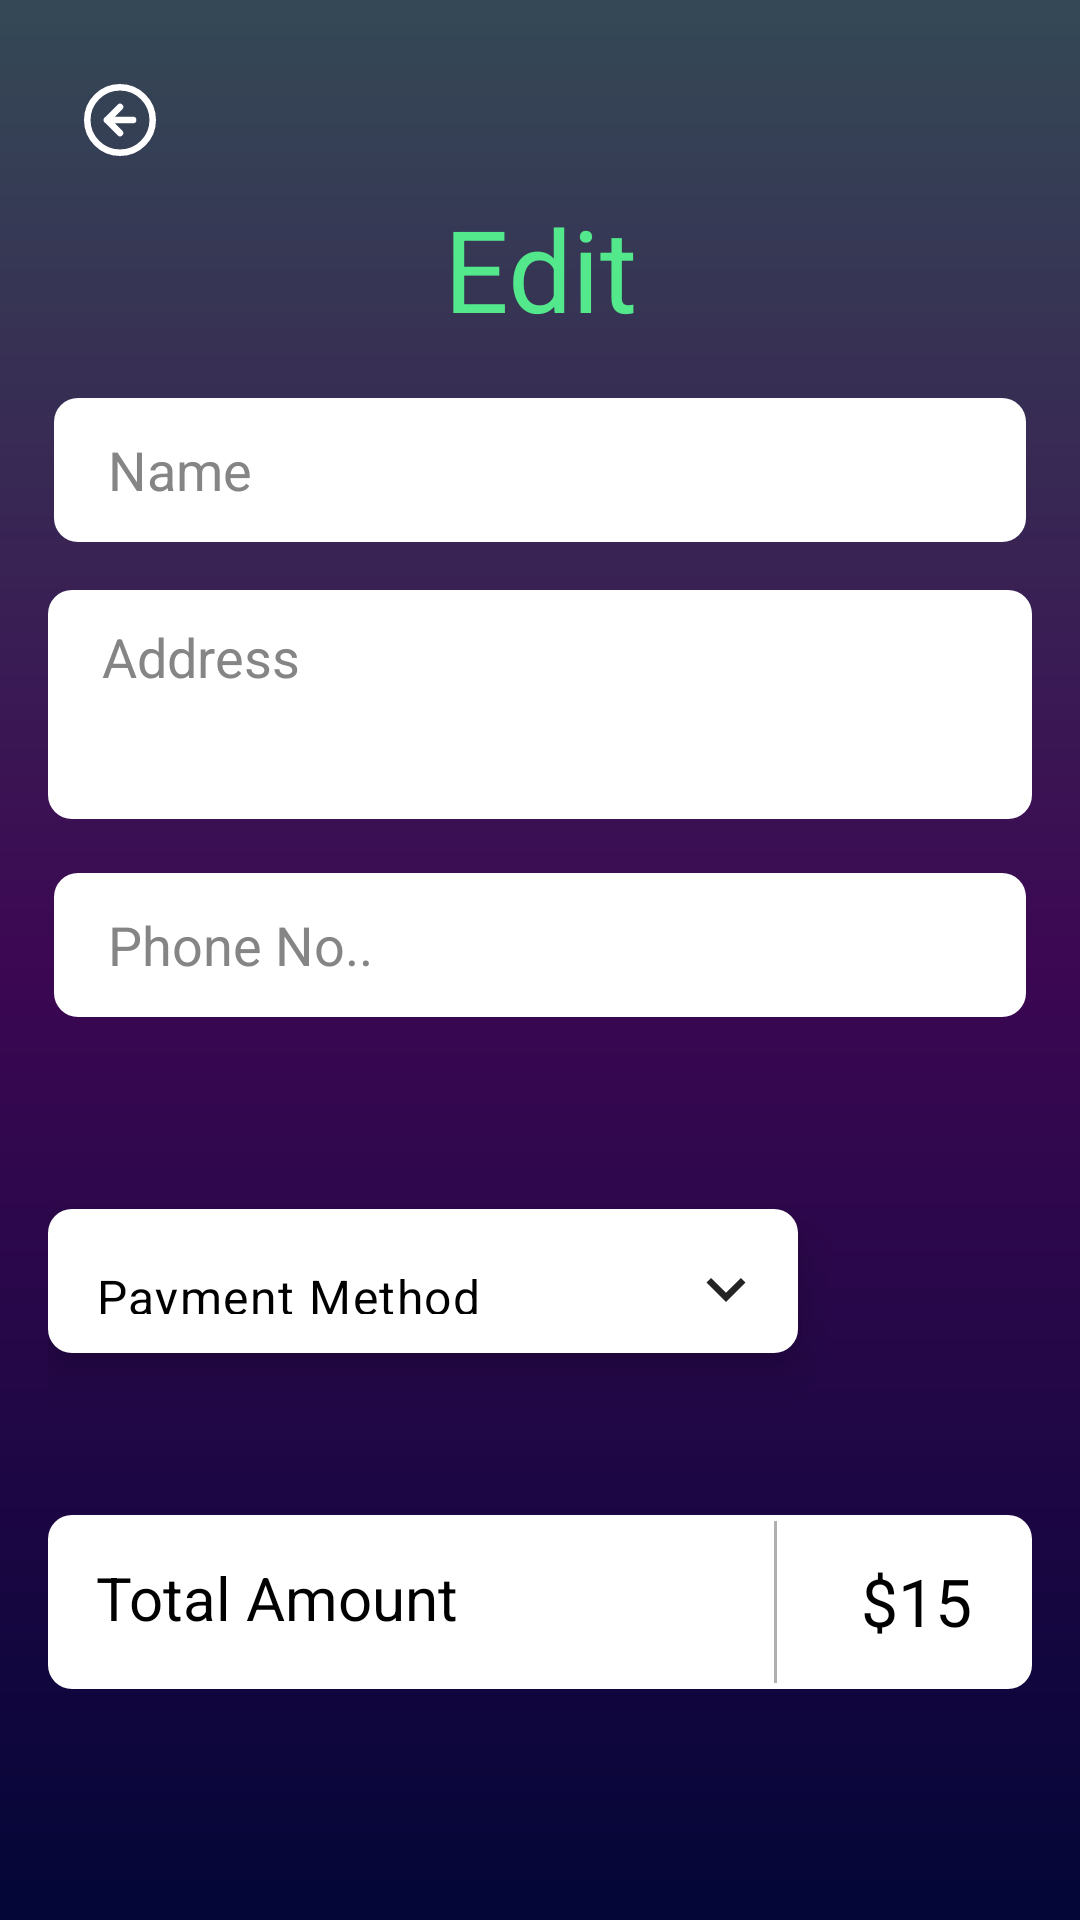

Icon click points for this 1080 × 1920 phone screenshot, format (x=x, y=y):
arrow left: (x=120, y=120)
